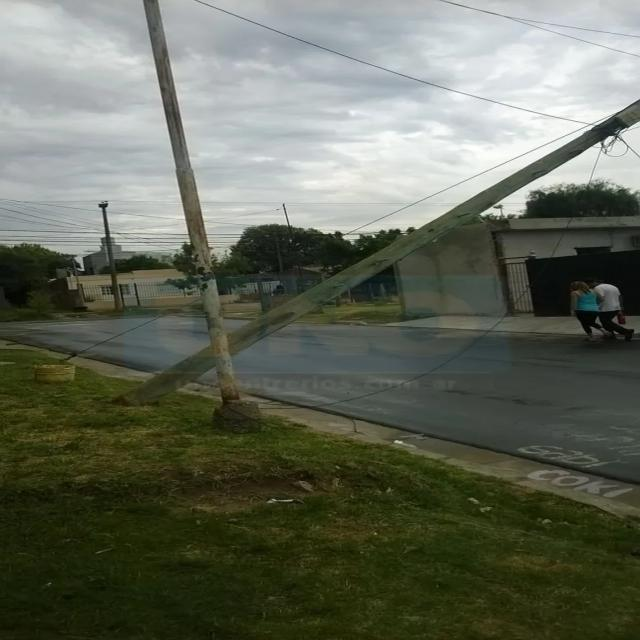Inclined Pole: (93, 92, 640, 408)
